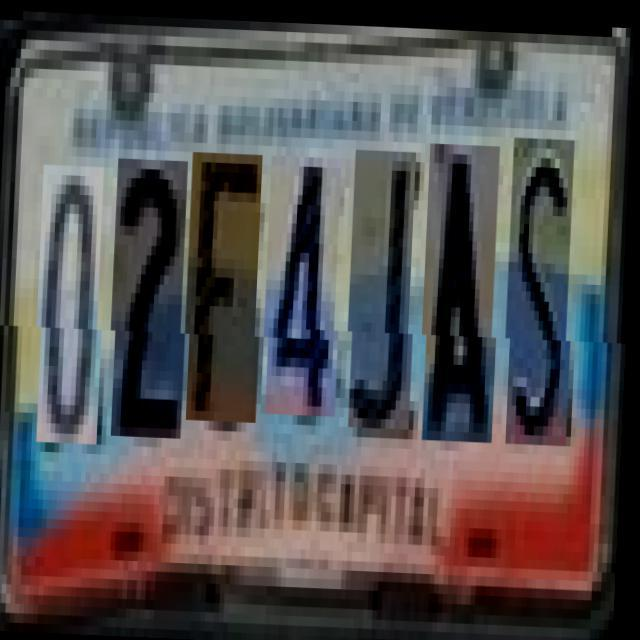2: (115, 158, 194, 436)
4: (268, 153, 348, 413)
A: (426, 140, 506, 438)
F: (190, 150, 269, 420)
J: (352, 147, 422, 426)
O: (40, 164, 110, 443)
S: (509, 133, 580, 441)
